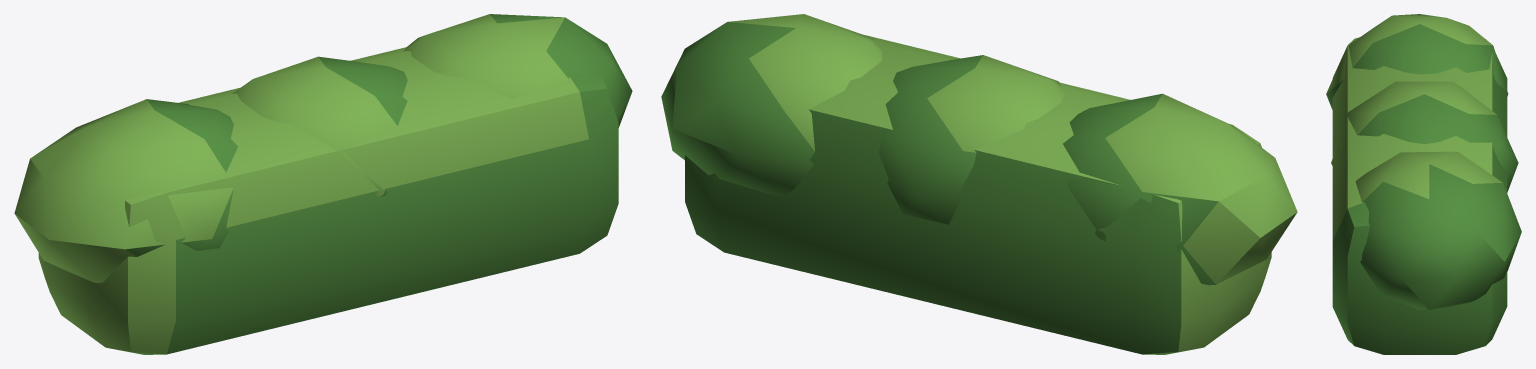
File: Hedge.fbx
3 views of the same model, side by side, from view 1: azimuth 30°, elevation 25°; view 2: azimuth 150°, elevation 25°; view 3: azimuth 270°, elevation 25° (orthographic). The views are drawn at different scales.
Visible parts, largest first — view 1: Hedge; view 2: Hedge; view 3: Hedge.
Part boxes in pixels (<box>): Hedge: <box>14,14,632,354</box>; Hedge: <box>661,14,1297,354</box>; Hedge: <box>1326,14,1521,354</box>.
Bounding box in the file's own units: 2.37 × 0.8472 × 0.8412.
